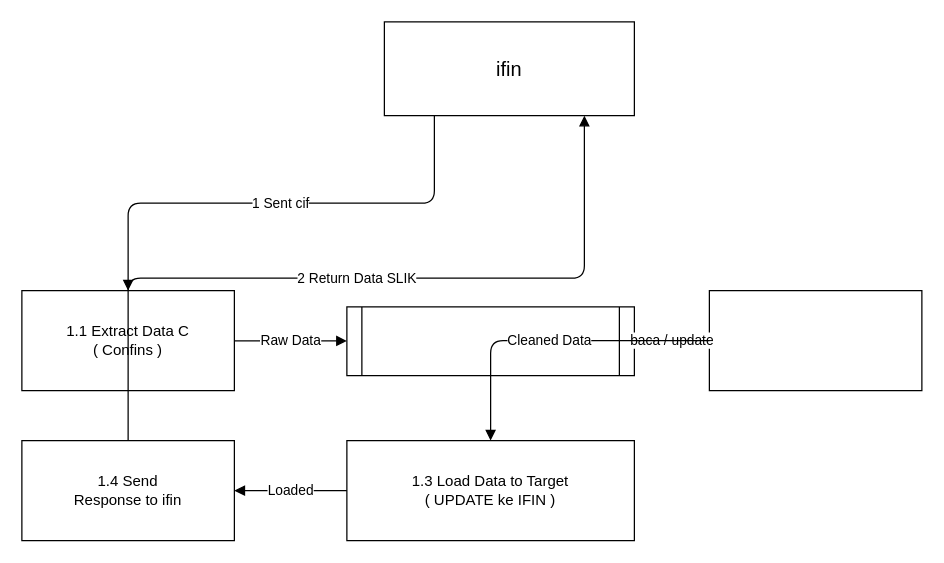
Image size: 944x563. Some labels were removed from this diagram. Here are the shapes that lost their labels. From the top down, the centre of each, then its label:
(x=490, y=341): Data Store : SLIKDBUUS ( Server MIS )
(x=815, y=340): 1.2 Transform Data
